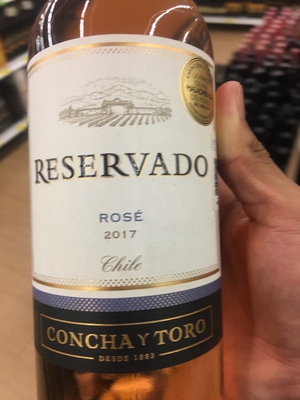reservado rose: (24, 10, 226, 399)
